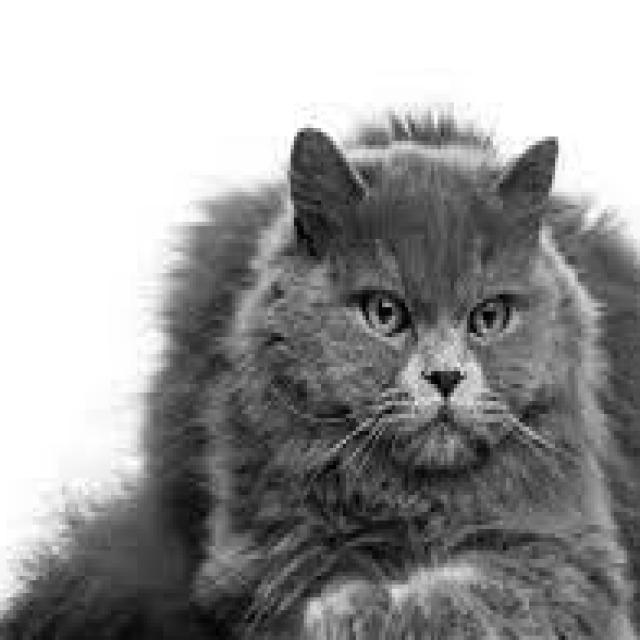british: (219, 58, 632, 535)
